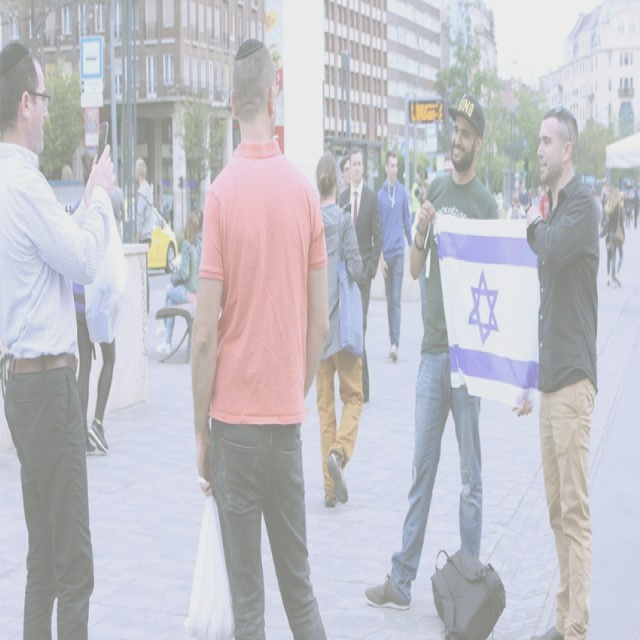pessoa: (190, 37, 332, 639), (362, 85, 506, 615), (0, 36, 118, 639), (508, 99, 602, 638), (314, 147, 365, 512), (71, 149, 116, 459), (338, 146, 385, 406), (374, 145, 417, 363), (154, 210, 202, 358), (338, 152, 372, 359), (133, 154, 155, 316), (410, 177, 430, 323), (493, 180, 551, 222), (606, 186, 627, 290), (599, 192, 614, 284), (109, 177, 126, 243), (622, 182, 640, 232), (590, 181, 606, 236), (410, 172, 422, 228), (160, 202, 174, 230), (442, 152, 454, 177)
